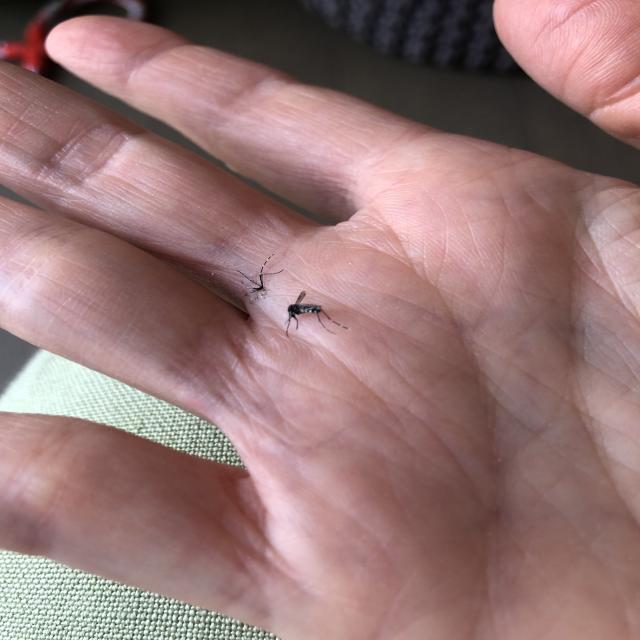albopictus: (222, 245, 352, 338)
